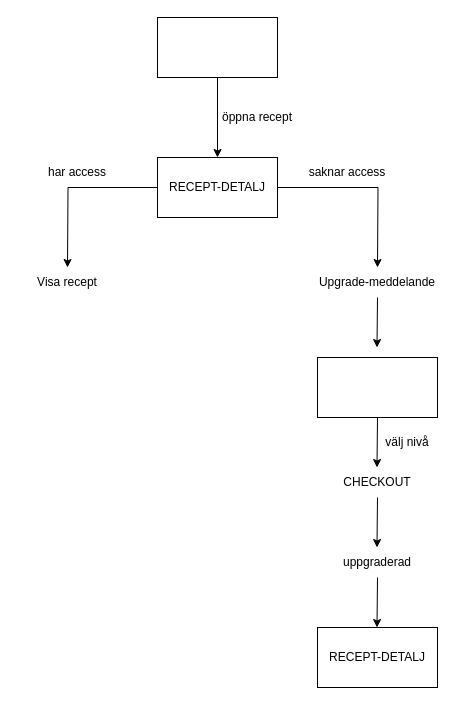
This 474x705 diagram has some shape labels left out. The shapes that lost their labels are listed below. From the top down, each one's centre as x and y in pixels, then its label:
At [217,47]: "RECEPT-GRID".
At [377,387]: "MEDLEMSKAP".
